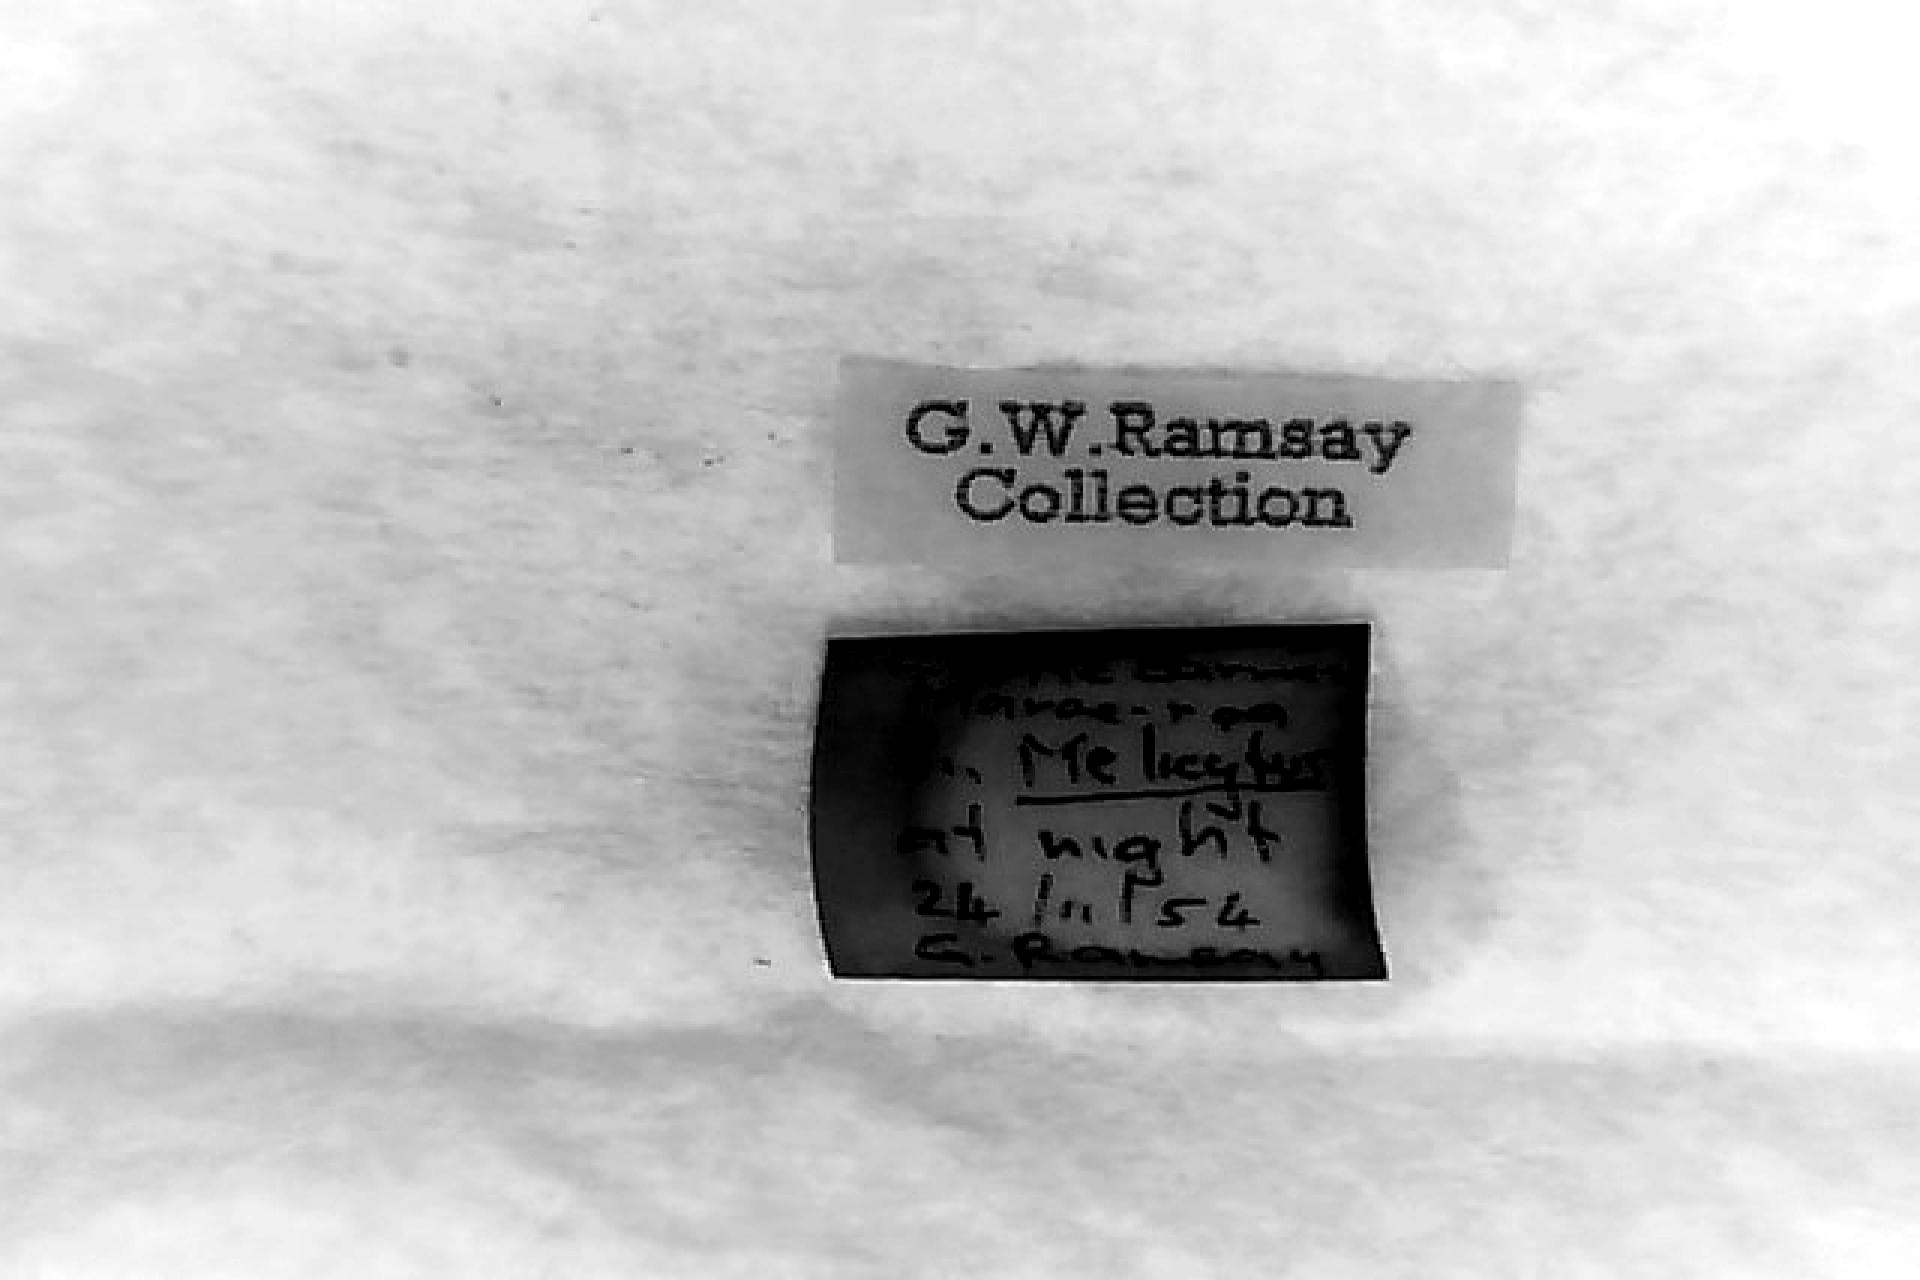hand_label: (810, 623, 1380, 979)
typed_label: (839, 367, 1519, 566)
